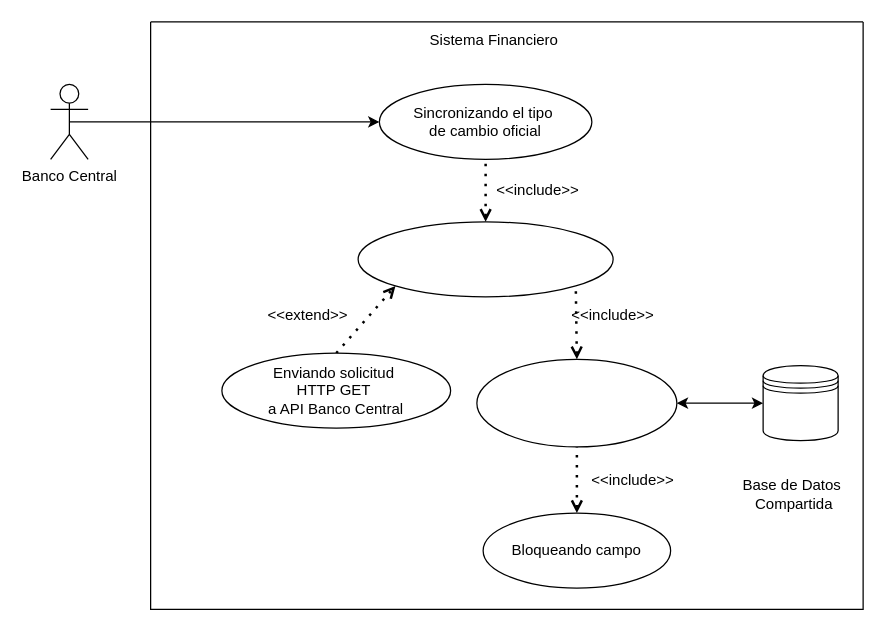
Image size: 885x631. Some labels were removed from this diagram. Each missing label, with the centre of its shape:
Detectando cambio de estado del selector de divisa: pixel 485 259
Inyectando valor en campo "Tipo de Cambio": pixel 576 402
